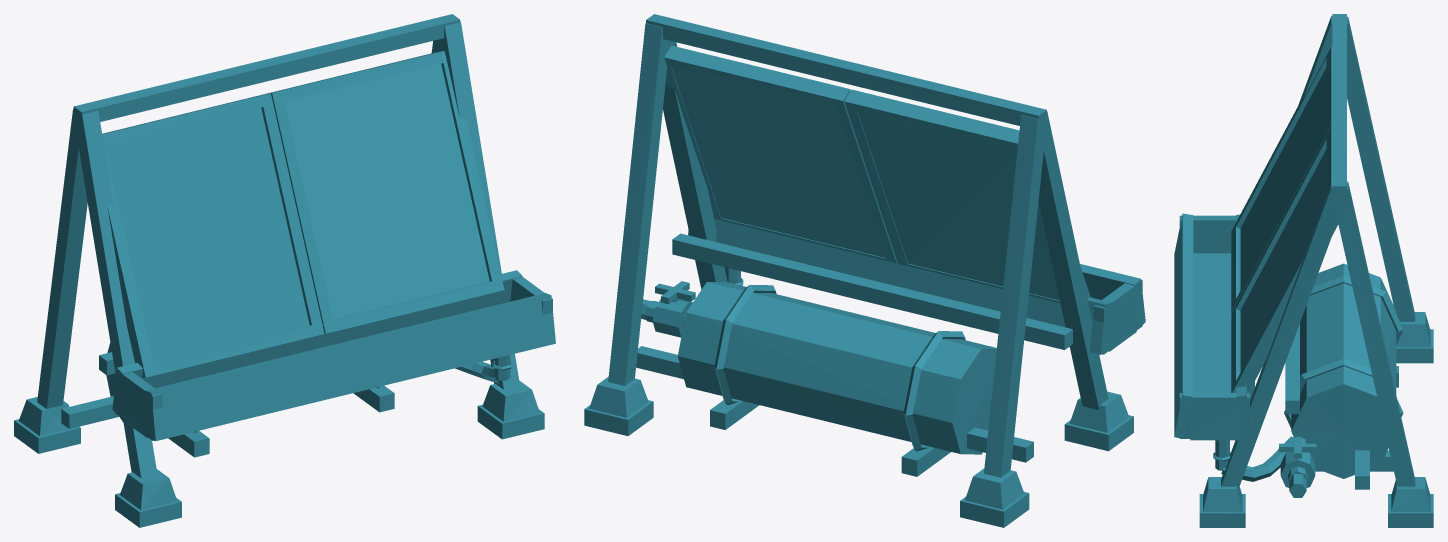
Rendered from meltwater-collector.source.glb.
3 renders of one model, left to right at view 1: azimuth 30°, elevation 25°; view 2: azimuth 150°, elevation 25°; view 3: azimuth 270°, elevation 25°, orthographic. The views are drawn at different scales.
Parts seen in each view (by area): view 1: meltwater-collector-left-collector-surface-mesh, meltwater-collector-right-collector-surface-mesh, meltwater-collector-trough-front-wall-mesh, meltwater-collector-apex-cross-rail-mesh, meltwater-collector-left-front-leg-mesh, meltwater-collector-left-rear-leg-mesh, meltwater-collector-trough-rear-wall-mesh, meltwater-collector-right-front-leg-mesh, meltwater-collector-left-right-rail-mesh, meltwater-collector-right-left-rail-mesh, meltwater-collector-left-left-rail-mesh, meltwater-collector-right-right-rail-mesh (+15 smaller); view 2: meltwater-collector-holding-tank-shell-mesh, meltwater-collector-right-collector-surface-mesh, meltwater-collector-left-collector-surface-mesh, meltwater-collector-left-rear-leg-mesh, meltwater-collector-right-rear-leg-mesh, meltwater-collector-apex-cross-rail-mesh, meltwater-collector-middle-cross-rail-mesh, meltwater-collector-trough-rear-wall-mesh, meltwater-collector-left-front-leg-mesh, meltwater-collector-right-front-leg-mesh, meltwater-collector-right-upper-rail-mesh, meltwater-collector-left-upper-rail-mesh (+17 smaller); view 3: meltwater-collector-holding-tank-shell-mesh, meltwater-collector-right-front-leg-mesh, meltwater-collector-trough-base-mesh, meltwater-collector-right-rear-leg-mesh, meltwater-collector-left-collector-surface-mesh, meltwater-collector-left-rear-leg-mesh, meltwater-collector-right-collector-surface-mesh, meltwater-collector-trough-front-wall-mesh, meltwater-collector-trough-right-end-mesh, meltwater-collector-apex-cross-rail-mesh, meltwater-collector-right-right-rail-mesh, meltwater-collector-trough-left-end-mesh (+24 smaller).
Boxes of the visible parts, x1,y1,x2,y2 form: meltwater-collector-left-collector-surface-mesh: [104, 107, 309, 362]; meltwater-collector-right-collector-surface-mesh: [284, 63, 489, 318]; meltwater-collector-trough-front-wall-mesh: [146, 293, 555, 440]; meltwater-collector-apex-cross-rail-mesh: [73, 14, 460, 121]; meltwater-collector-left-front-leg-mesh: [73, 110, 157, 478]; meltwater-collector-left-rear-leg-mesh: [37, 109, 87, 408]; meltwater-collector-trough-rear-wall-mesh: [112, 270, 522, 414]; meltwater-collector-right-front-leg-mesh: [442, 22, 519, 389]; meltwater-collector-left-right-rail-mesh: [261, 94, 324, 335]; meltwater-collector-right-left-rail-mesh: [271, 91, 335, 333]; meltwater-collector-left-left-rail-mesh: [103, 139, 155, 377]; meltwater-collector-right-right-rail-mesh: [441, 51, 504, 291]; meltwater-collector-holding-tank-shell-mesh: [677, 282, 996, 454]; meltwater-collector-right-collector-surface-mesh: [671, 66, 885, 257]; meltwater-collector-left-collector-surface-mesh: [858, 112, 1059, 300]; meltwater-collector-left-rear-leg-mesh: [984, 115, 1047, 477]; meltwater-collector-right-rear-leg-mesh: [608, 23, 669, 385]; meltwater-collector-apex-cross-rail-mesh: [646, 14, 1046, 125]; meltwater-collector-middle-cross-rail-mesh: [672, 233, 1072, 349]; meltwater-collector-trough-rear-wall-mesh: [688, 219, 1111, 354]; meltwater-collector-left-front-leg-mesh: [1038, 111, 1108, 409]; meltwater-collector-right-front-leg-mesh: [662, 31, 727, 289]; meltwater-collector-right-upper-rail-mesh: [664, 45, 850, 108]; meltwater-collector-left-upper-rail-mesh: [844, 89, 1019, 150]; meltwater-collector-holding-tank-shell-mesh: [1291, 263, 1396, 478]; meltwater-collector-right-front-leg-mesh: [1221, 180, 1347, 489]; meltwater-collector-trough-base-mesh: [1190, 253, 1238, 440]; meltwater-collector-right-rear-leg-mesh: [1332, 181, 1415, 486]; meltwater-collector-left-collector-surface-mesh: [1240, 67, 1326, 289]; meltwater-collector-left-rear-leg-mesh: [1347, 16, 1415, 321]; meltwater-collector-right-collector-surface-mesh: [1240, 149, 1326, 371]; meltwater-collector-trough-front-wall-mesh: [1174, 213, 1193, 438]; meltwater-collector-trough-right-end-mesh: [1179, 393, 1249, 438]; meltwater-collector-apex-cross-rail-mesh: [1332, 14, 1346, 199]; meltwater-collector-right-right-rail-mesh: [1231, 221, 1338, 392]; meltwater-collector-trough-left-end-mesh: [1179, 215, 1235, 253].
Bounding box in the file's own units: 3.49 × 2.75 × 1.93.
